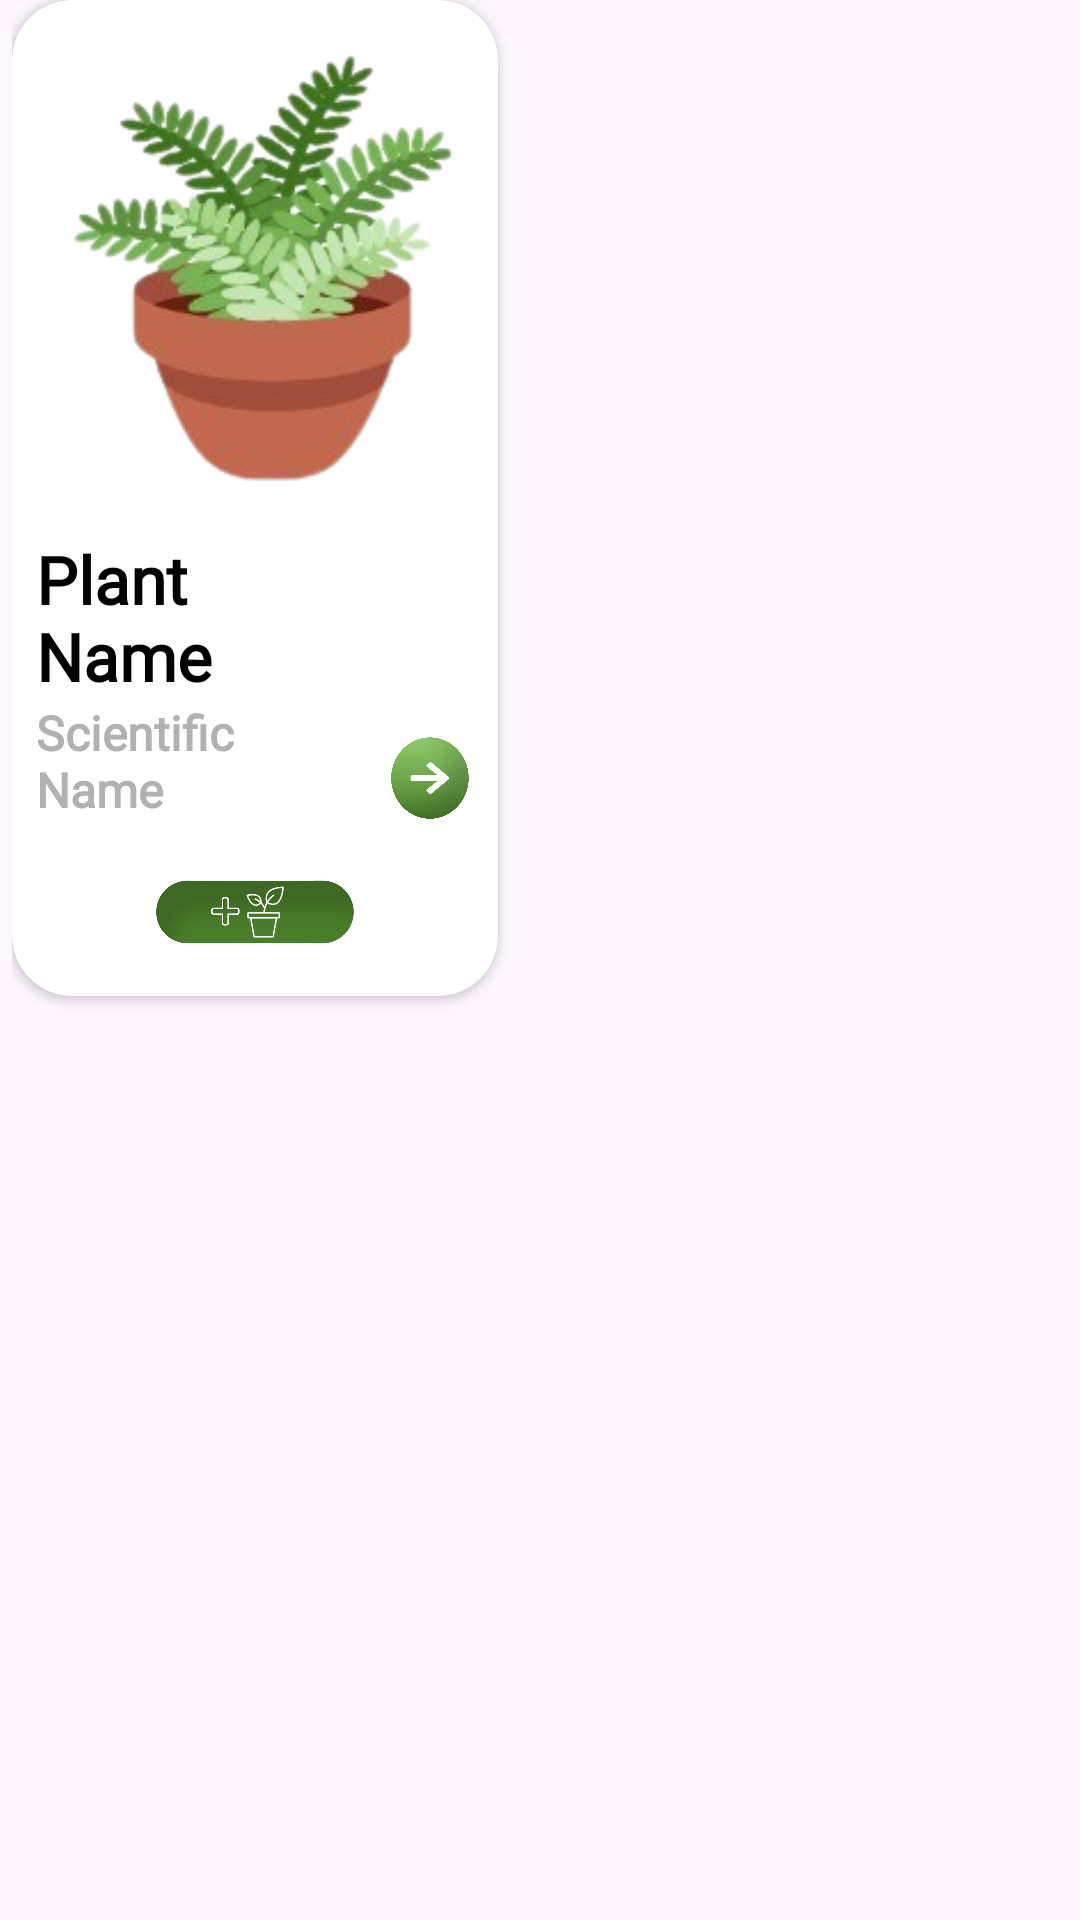

Icon click points for this 1080w x 1920h phone screenshot, format (x,y):
add to garden: (255,912)
plant arrow: (430,778)
